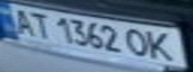1: (48, 14, 75, 44)
2: (100, 22, 124, 55)
3: (66, 17, 87, 47)
6: (84, 20, 106, 52)
A: (6, 6, 39, 36)
K: (142, 28, 184, 63)
O: (124, 26, 151, 60)
T: (24, 9, 54, 38)
